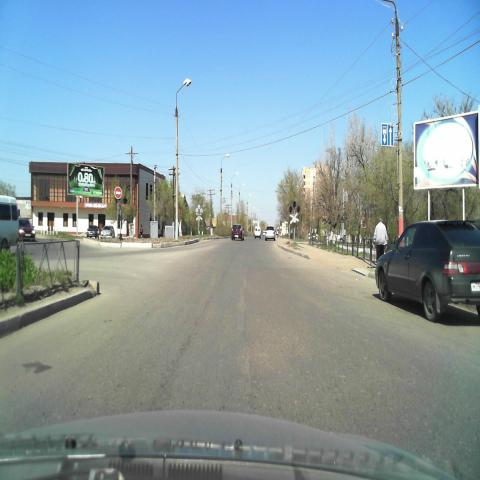5_11: (381, 122, 395, 148)
